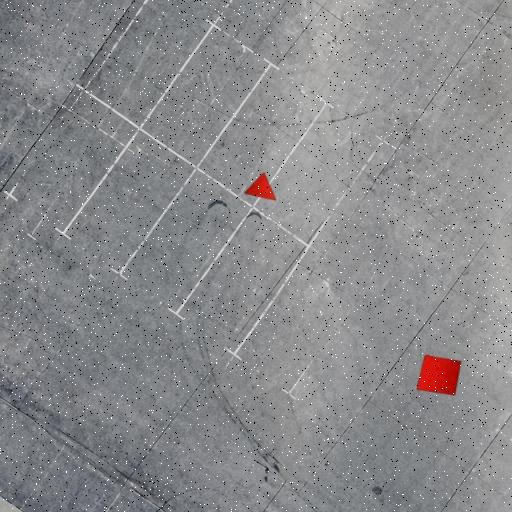RED_SQUARE: (416, 354, 462, 396)
